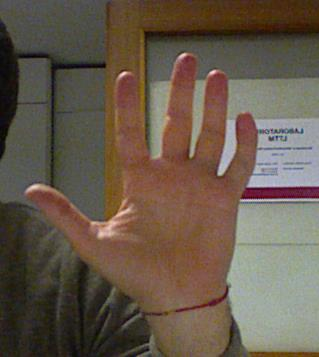down: (24, 53, 257, 318)
